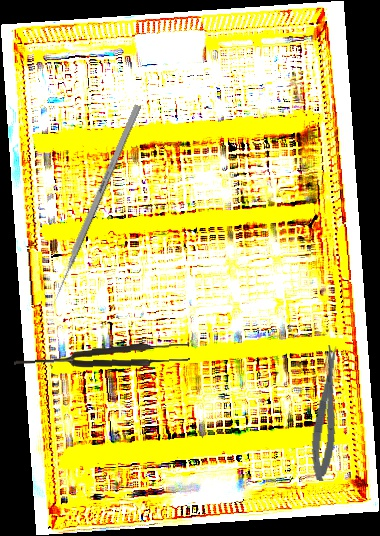Micro Scissor: (306, 344, 348, 482)
Pusher: (47, 103, 142, 311)
Tissue Forceps: (13, 341, 191, 373)
